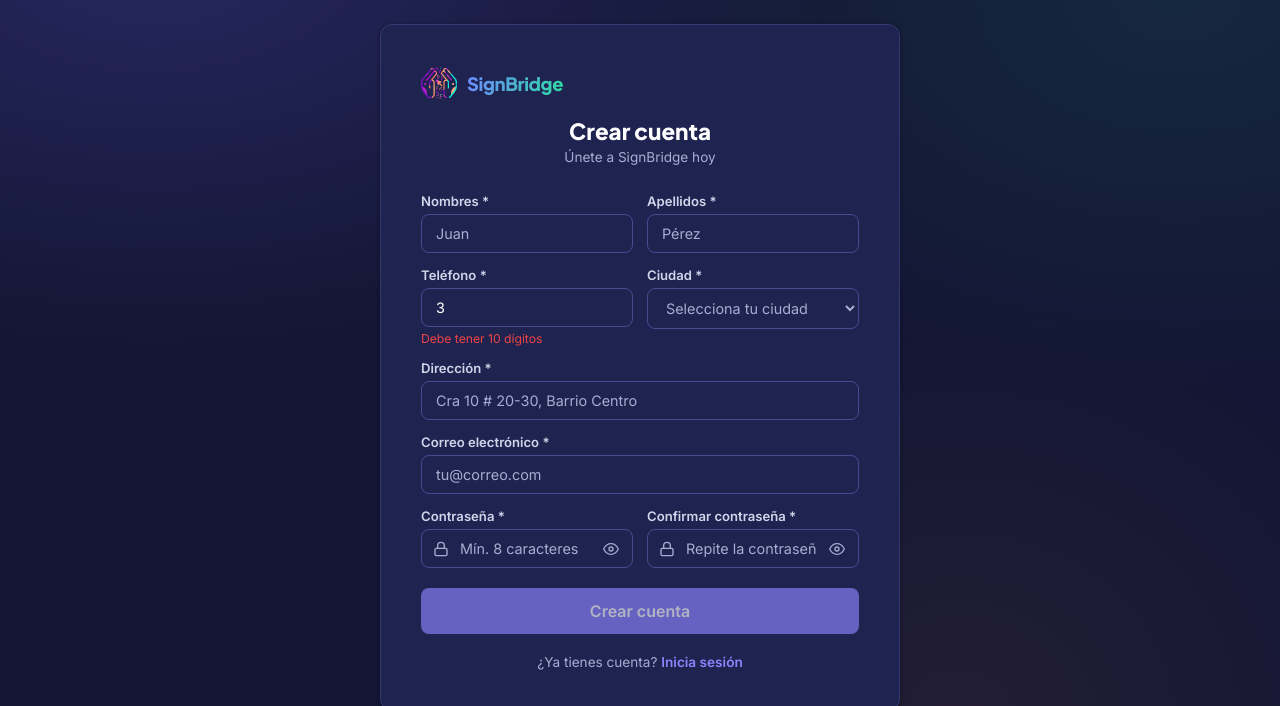
Scenario: Register › should keep "Crear cuenta" disabled until the form is complete
The image size is (1280, 706).
Expected: the button "Crear cuenta" is disabled, 421,588 -> 859,634
Type "ana" into the field labelled "Nombres *".
click(527, 234); type("ana")  # box 421,214 -> 633,253
Type "paz" into the field labelled "Apellidos *".
click(753, 234); type("paz")  # box 647,214 -> 859,253
Type "001234567" into the field labelled "Teléfono *".
click(527, 308); type("001234567")  # box 421,288 -> 633,327
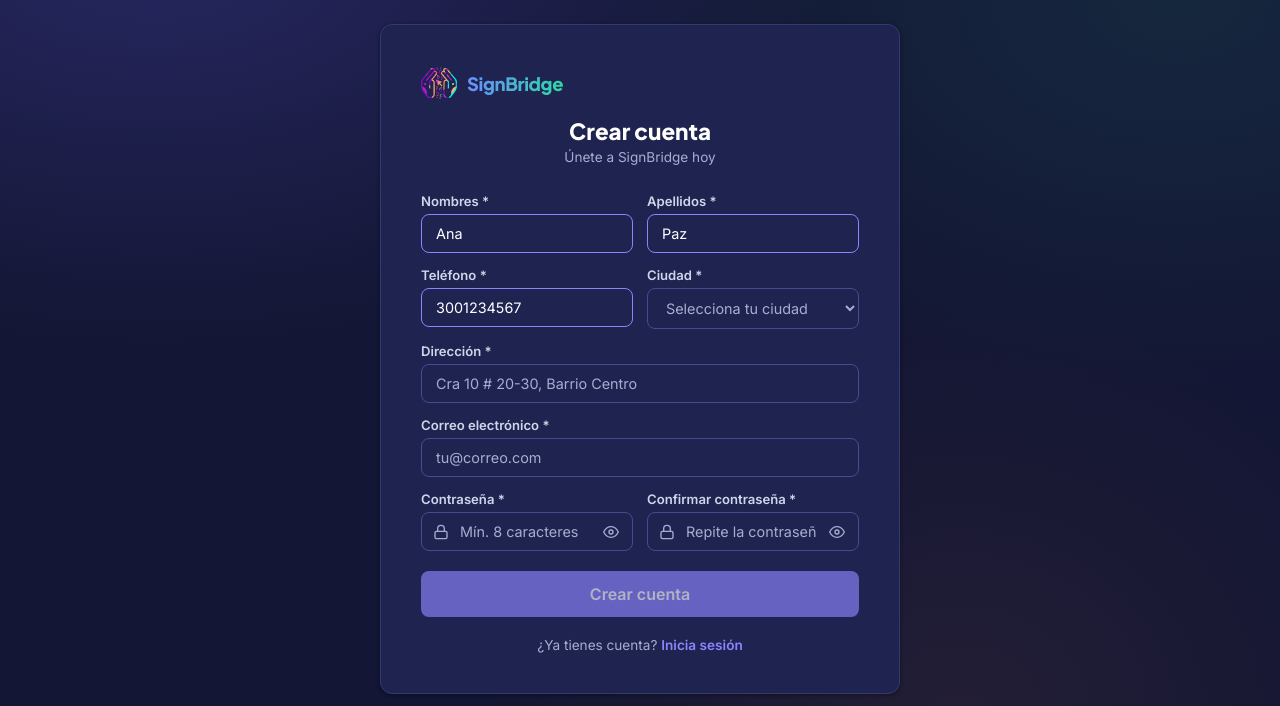
Select "Cali" in the dropdown labelled "Ciudad *" at (753, 308), box 647,288 -> 859,329
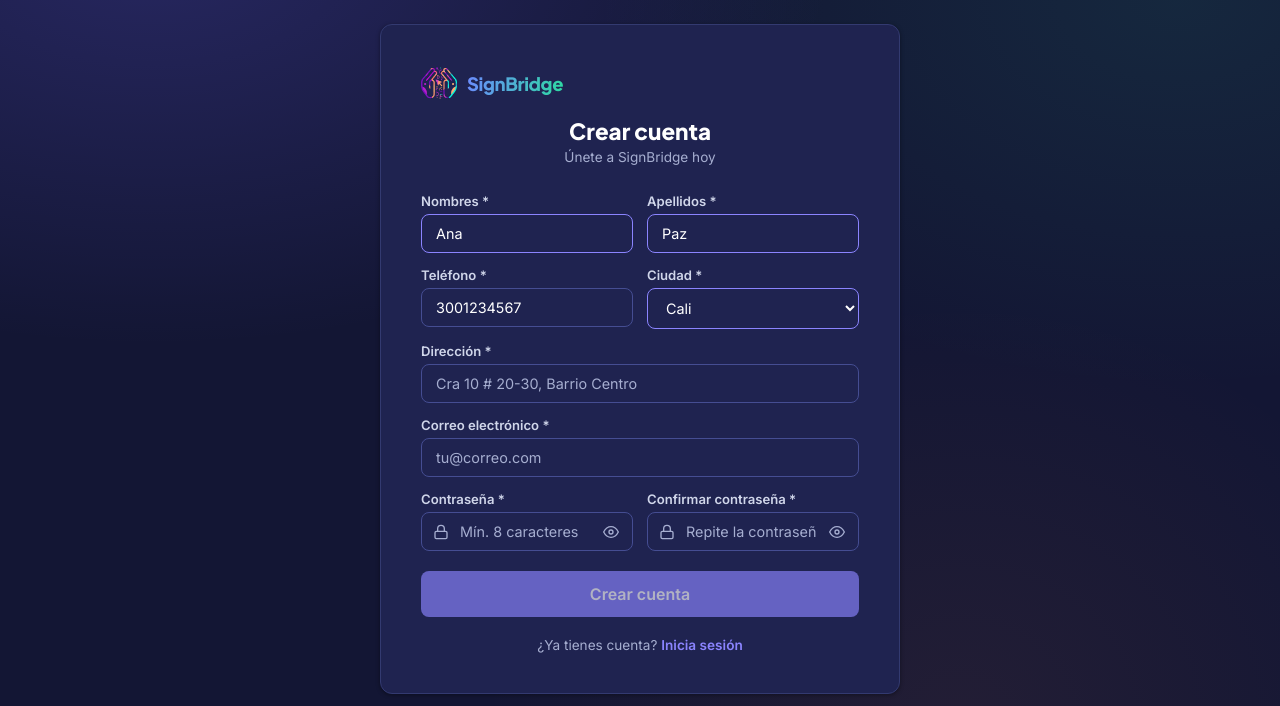
Type "Cra 1" into the field labelled "Dirección *".
click(640, 384); type("Cra 1")  # box 421,364 -> 859,403
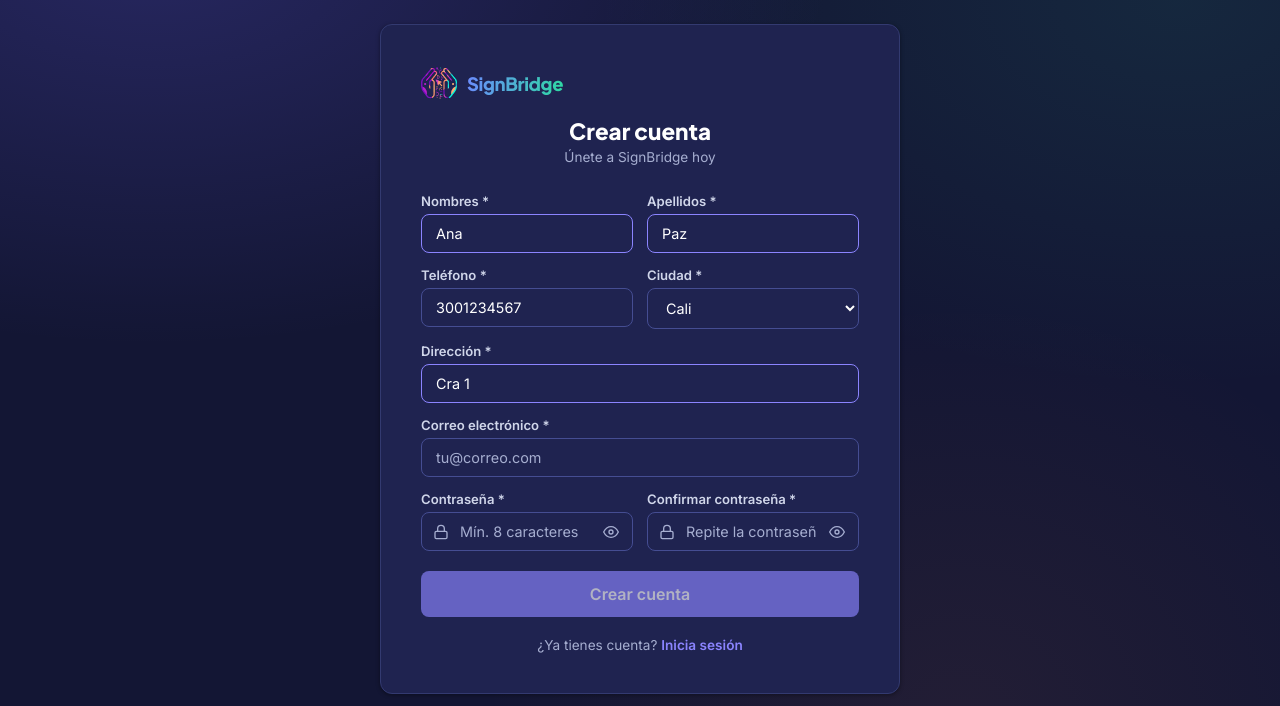
Type "ana@example.com" into the field labelled "Correo electrónico *".
click(640, 458); type("ana@example.com")  # box 421,438 -> 859,477
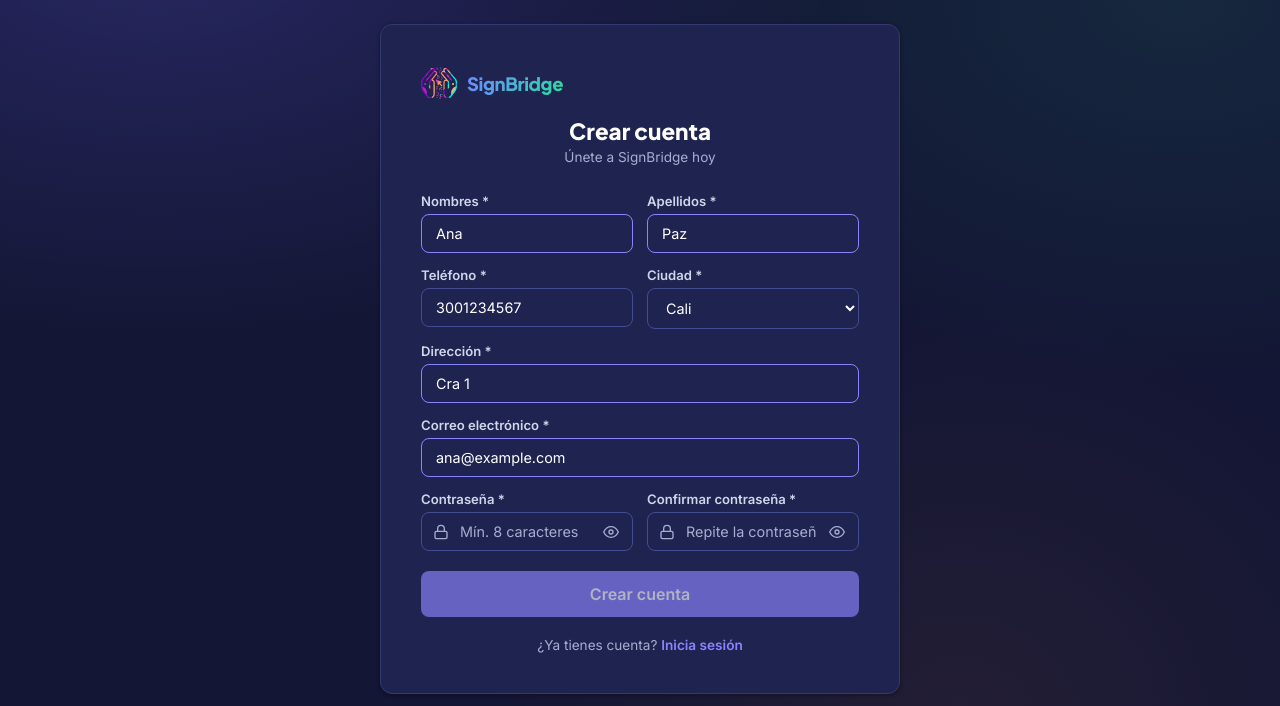
Type "Clave123*" into the password field labelled "Contraseña *".
click(527, 532); type("Clave123*")  # box 421,512 -> 633,551
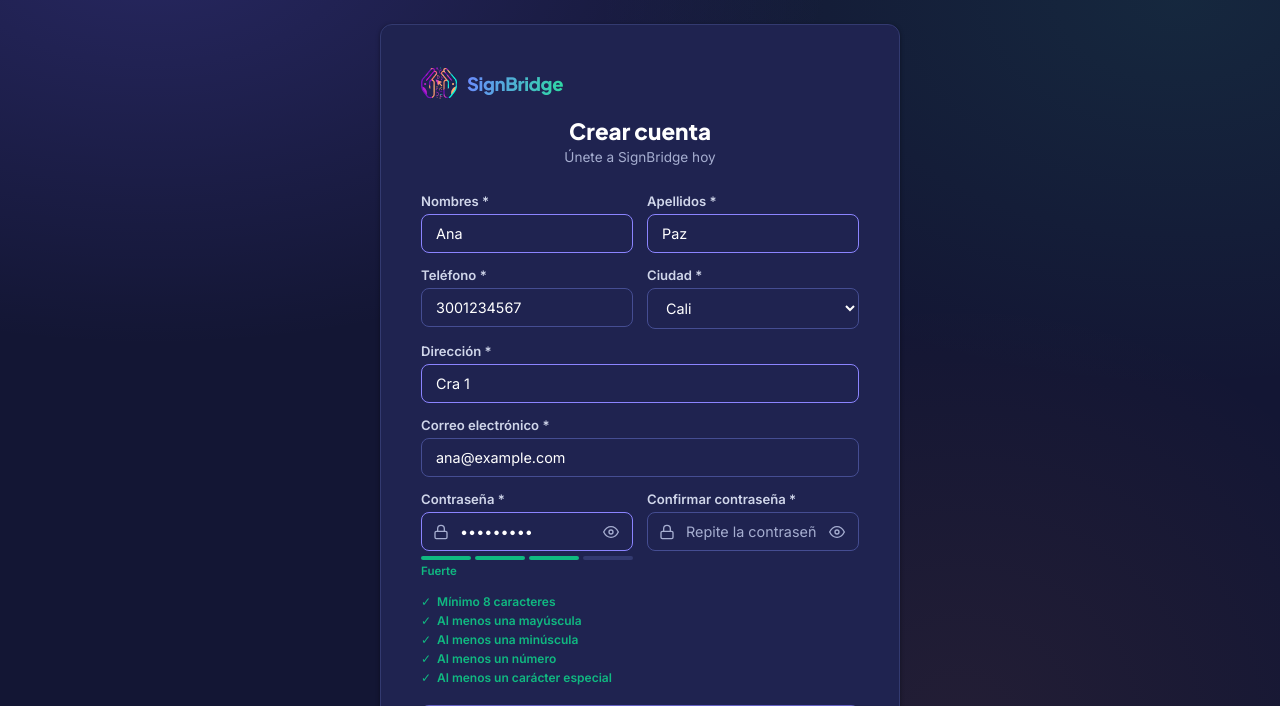
Type "Clave123*" into the password field labelled "Confirmar contraseña *".
click(753, 532); type("Clave123*")  # box 647,512 -> 859,551
(page scrolled)
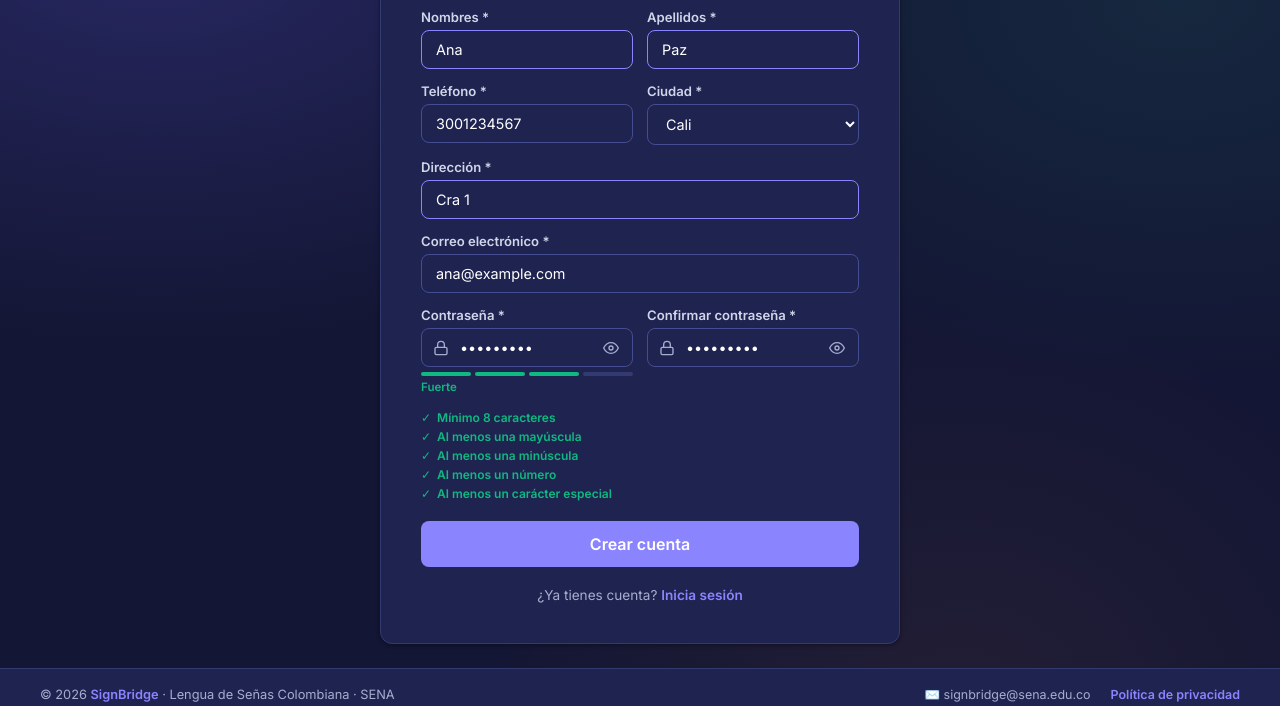
Expected: the button "Crear cuenta" is enabled, 421,521 -> 859,567
